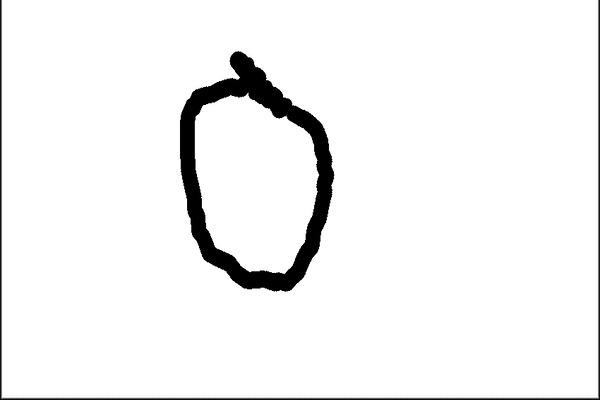O: (161, 42, 341, 298)
